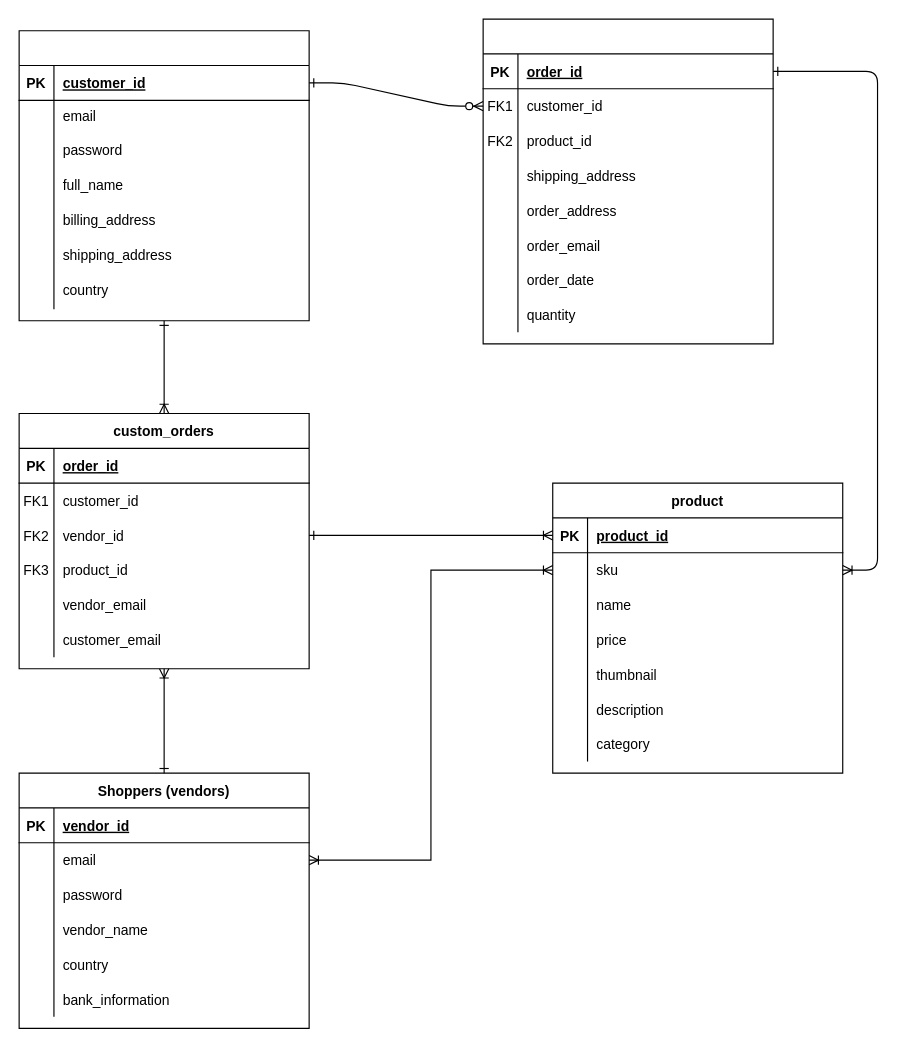
Some shapes in this 897 by 1047 pixel diagram are drawn without their labels. Here are the shapes that lost their labels. From the top down, the box of each, then its label:
(18, 30, 309, 321): Customers
(482, 18, 773, 344): Orders
